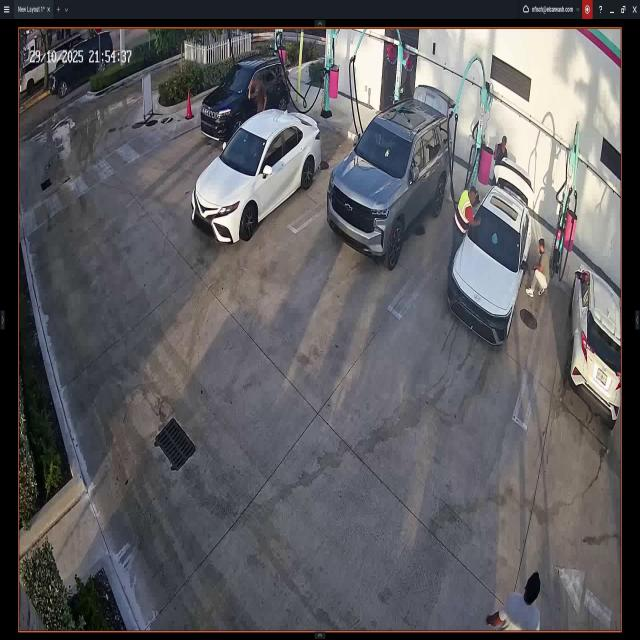Car: (328, 88, 451, 268), (190, 104, 322, 244), (449, 163, 533, 344), (568, 263, 622, 426), (199, 50, 292, 140), (51, 34, 113, 102)
